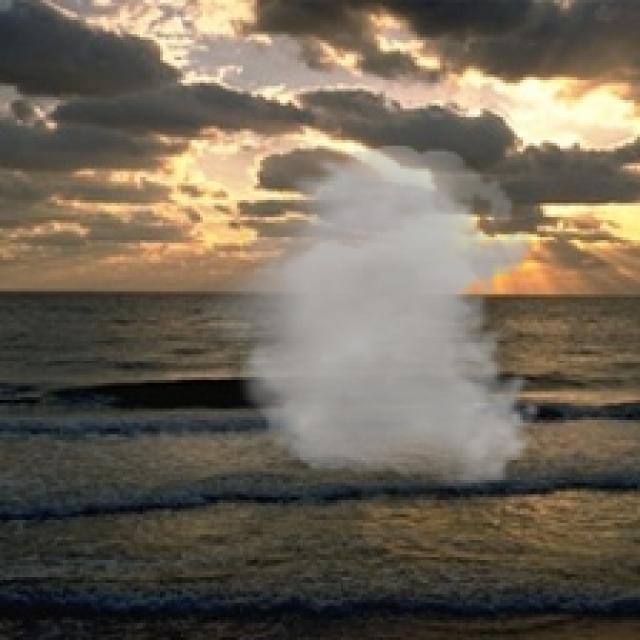Smoke: (194, 146, 543, 488)
